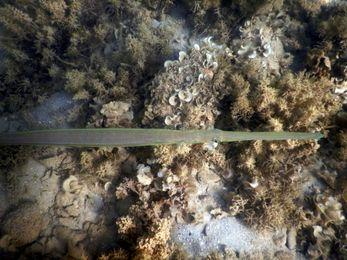Fistularia commersonii: (0, 97, 333, 180)
